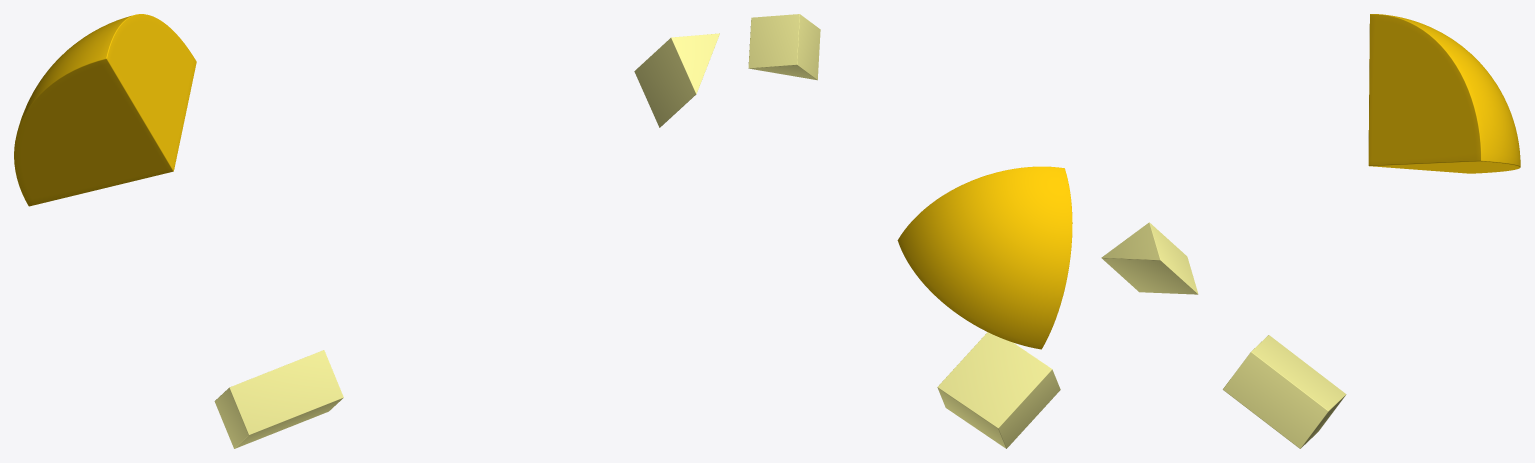
3 views of the same model, side by side, from view 1: azimuth 30°, elevation 25°; view 2: azimuth 150°, elevation 25°; view 3: azimuth 270°, elevation 25° (orthographic). The views are drawn at different scales.
Visible parts, largest first — view 1: EIGTH, SQUARE.001, TRIANGLE; view 2: EIGTH, SQUARE.001, TRIANGLE; view 3: EIGTH, SQUARE.001, TRIANGLE.
Part boxes in pixels (box(x1,y1,x2,y2)): EIGTH: box(14, 14, 196, 206); SQUARE.001: box(214, 350, 343, 448); TRIANGLE: box(634, 33, 719, 127); EIGTH: box(897, 166, 1072, 349); SQUARE.001: box(937, 332, 1060, 448); TRIANGLE: box(748, 14, 820, 80); EIGTH: box(1368, 14, 1520, 173); SQUARE.001: box(1223, 335, 1346, 448); TRIANGLE: box(1101, 222, 1198, 294).
Bounding box in the file's own units: 6.77 × 4.75 × 4.76.
